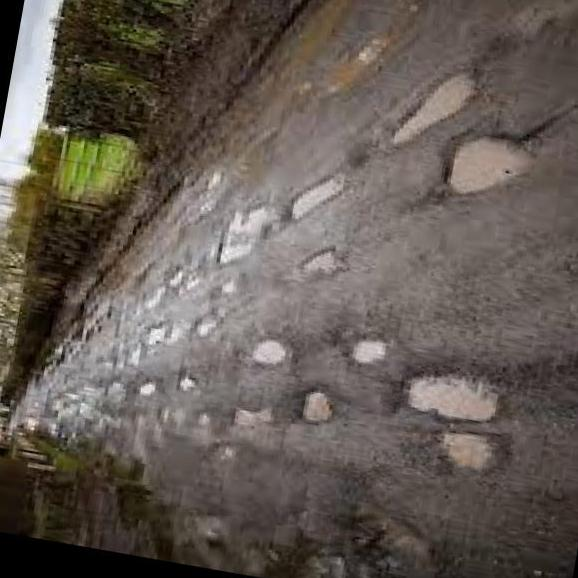pothole: (379, 46, 483, 161), (431, 117, 543, 214), (394, 357, 506, 429), (210, 193, 284, 276), (422, 420, 512, 478), (285, 166, 352, 225), (242, 326, 304, 376), (294, 231, 350, 285), (292, 382, 340, 436), (227, 392, 274, 434), (345, 328, 390, 367), (141, 312, 179, 351), (163, 256, 195, 296), (192, 308, 222, 340), (135, 372, 161, 400), (154, 400, 178, 428), (178, 370, 202, 393), (220, 273, 243, 294), (192, 402, 212, 426)
